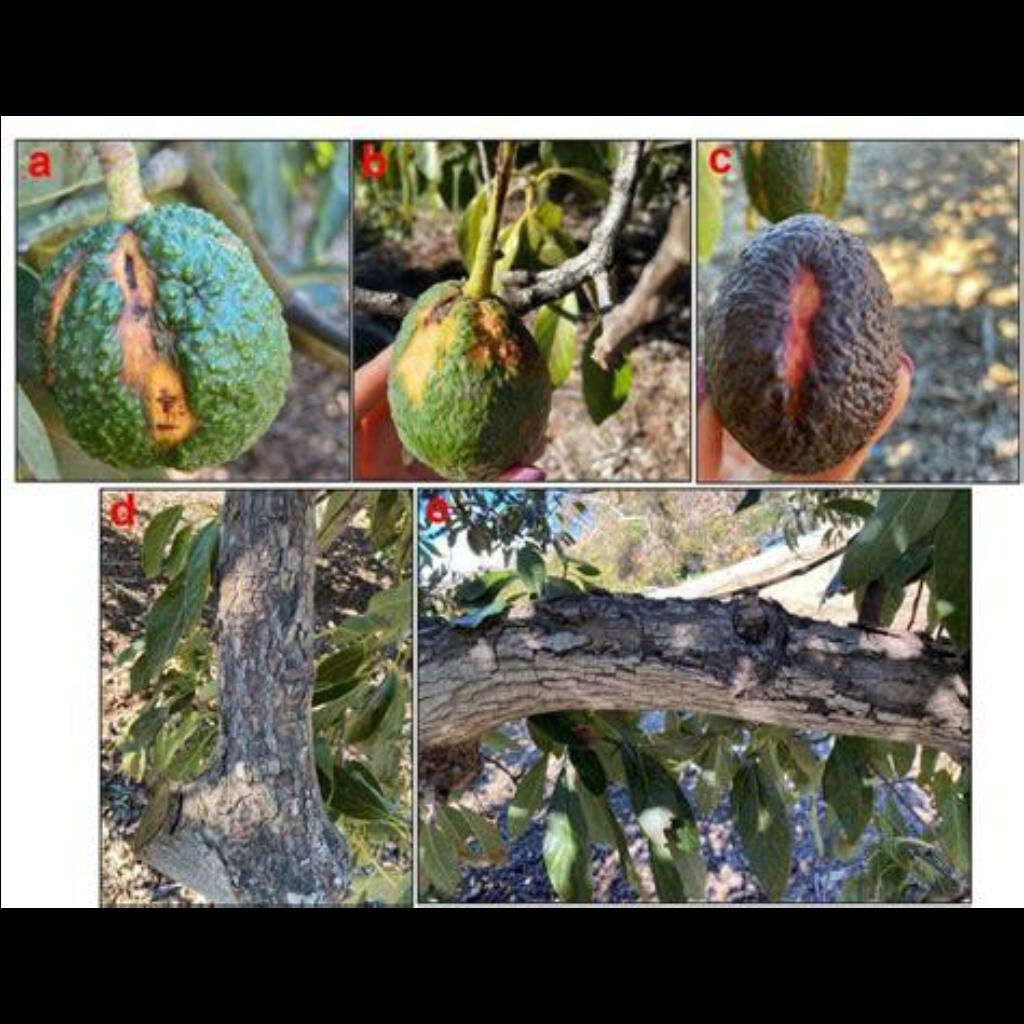sunblotch: (23, 212, 308, 474), (705, 212, 919, 467), (384, 258, 561, 478)
